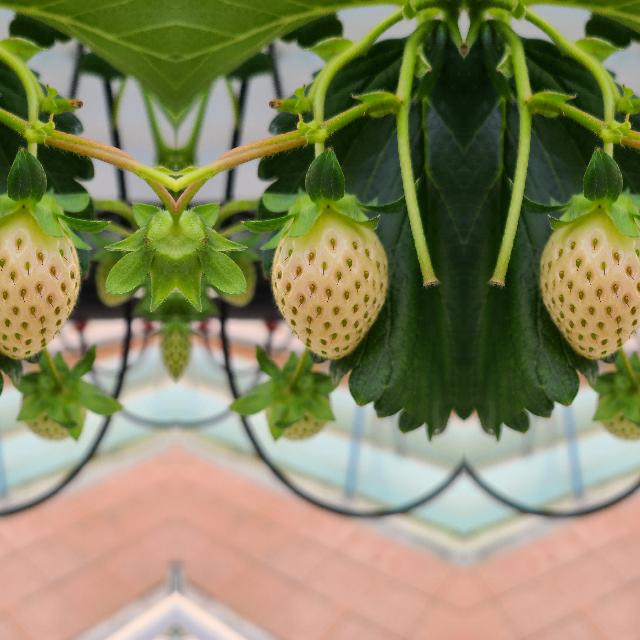Health_50: (270, 208, 386, 358), (540, 208, 640, 357), (0, 208, 80, 357)
